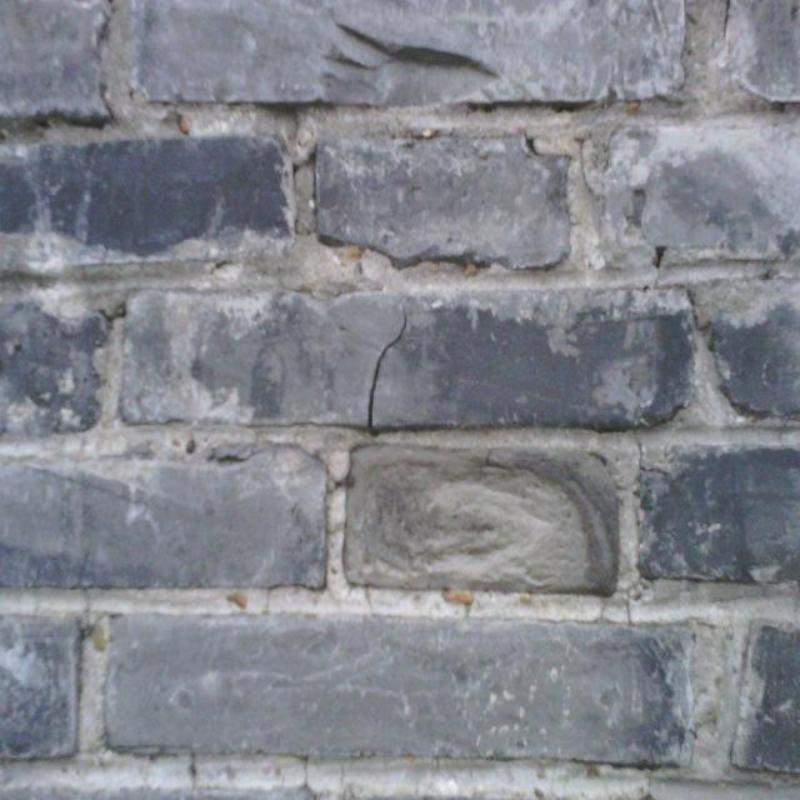pothole: (367, 308, 407, 427), (635, 434, 668, 476), (651, 245, 666, 289), (211, 450, 261, 461), (101, 305, 126, 325), (292, 151, 315, 172), (328, 475, 348, 494), (642, 769, 654, 799), (189, 755, 198, 789), (81, 590, 89, 625), (625, 589, 632, 625), (364, 586, 372, 612), (598, 598, 606, 621), (304, 756, 309, 788), (264, 589, 270, 615), (295, 229, 318, 235)
